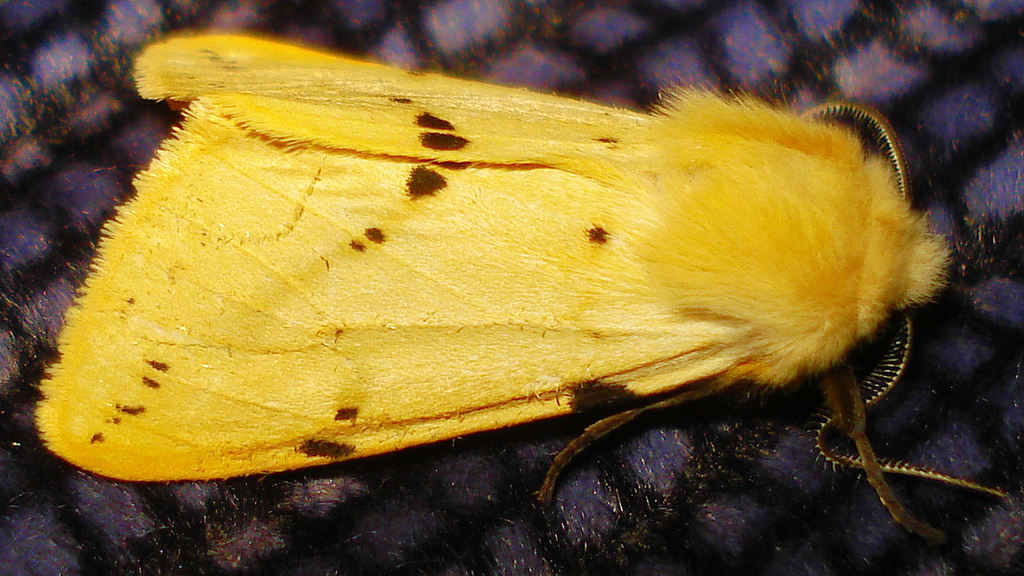Butterfly: (49, 17, 961, 501)
